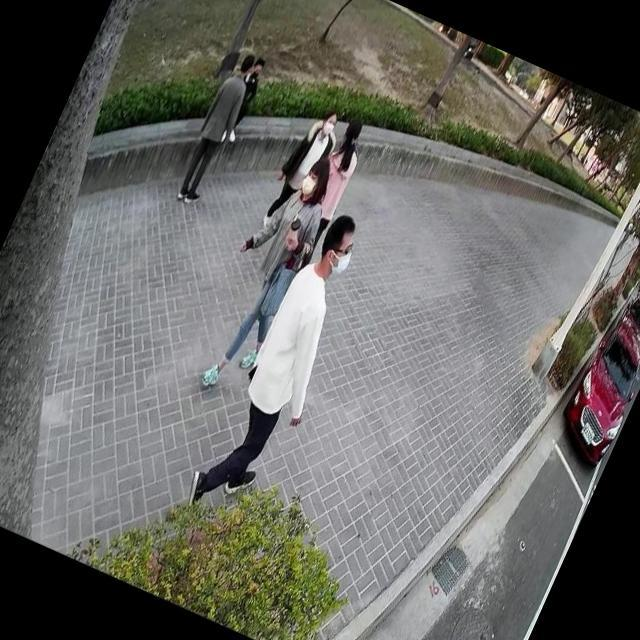person: (176, 187, 392, 538), (180, 134, 354, 408), (167, 42, 269, 212), (280, 108, 378, 272), (254, 92, 354, 241), (212, 52, 272, 150)
